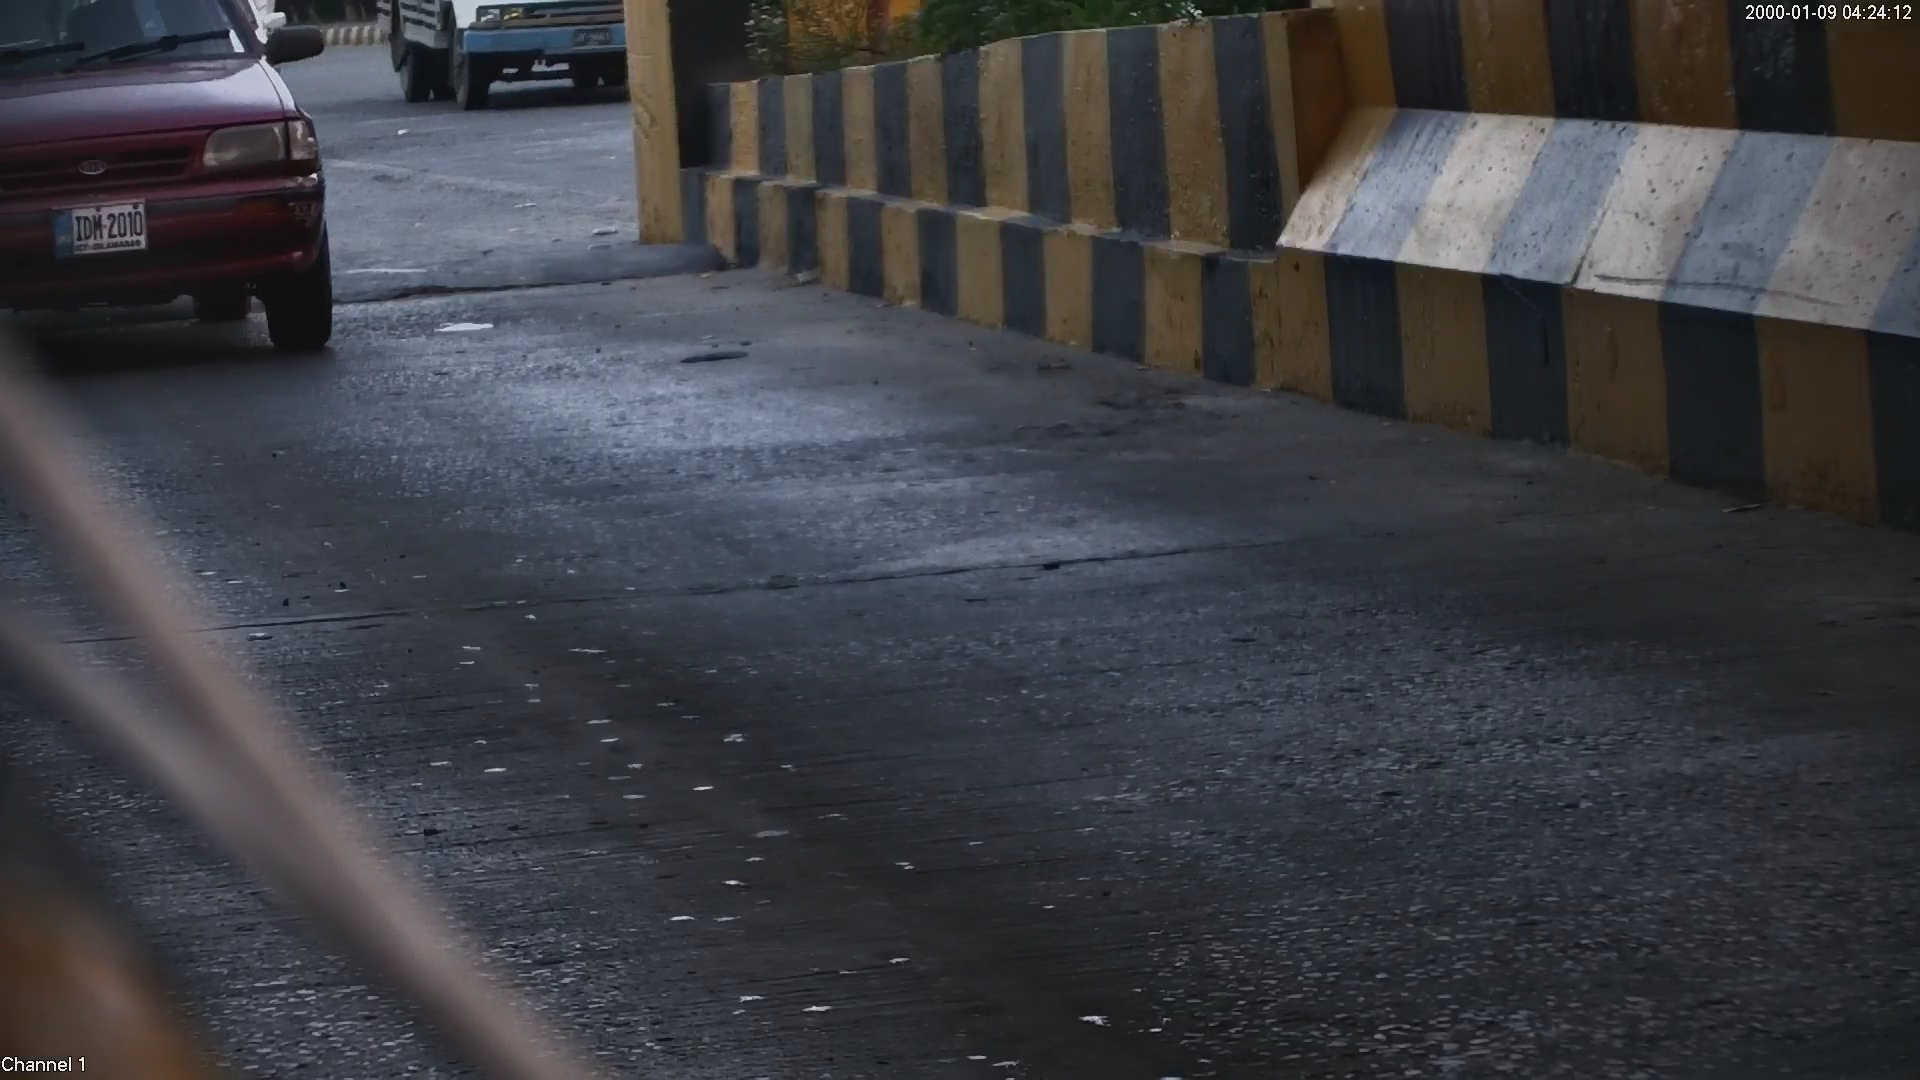Number_Plate: (52, 196, 154, 259)
